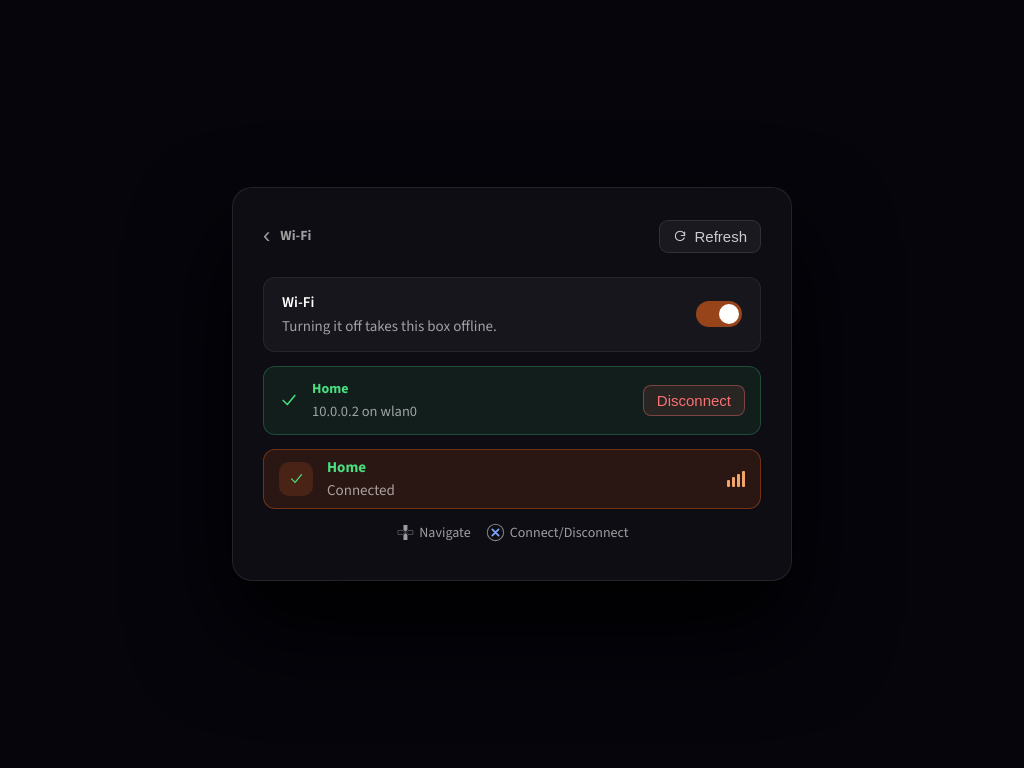
default UI Wi-Fi radio switch › asks twice before going offline, then hides the list
This screenshot has width=1024, height=768.
Expected: the text "Turning it off takes this box offline." is shown, [282, 316, 497, 337]
Step 1. Click the switch → (512, 314), box [263, 277, 761, 352]
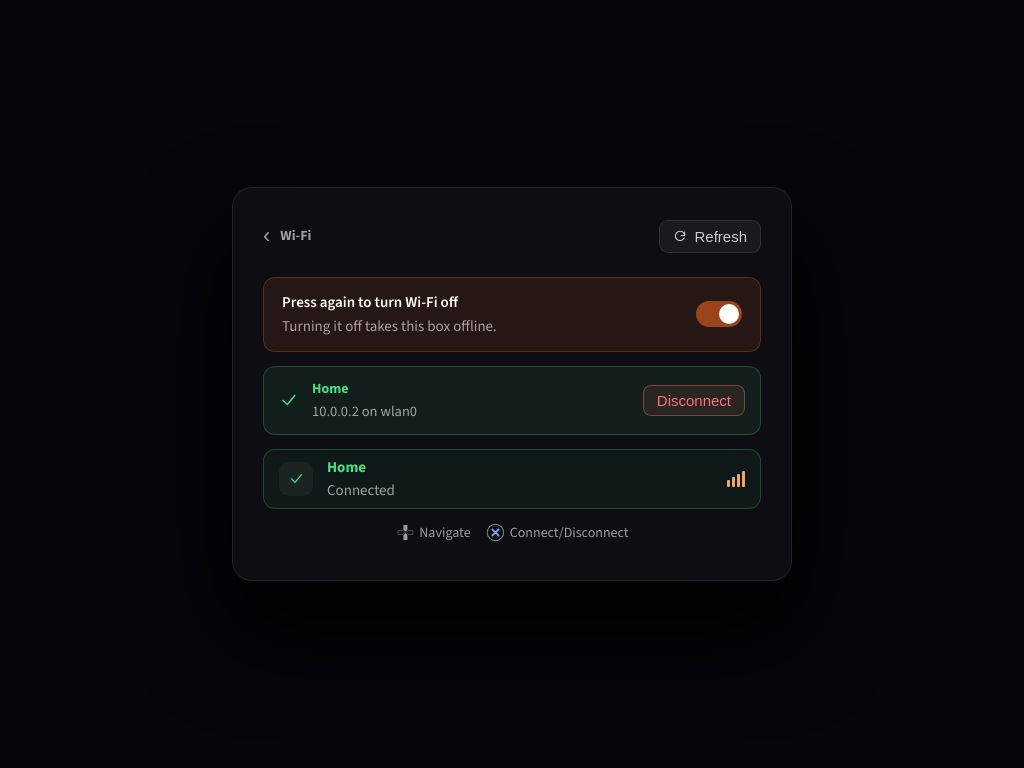
Expected: the text "Press again to turn Wi-Fi off" is shown, [282, 292, 458, 313]
Step 2. Click the switch → (512, 314), box [263, 277, 761, 352]
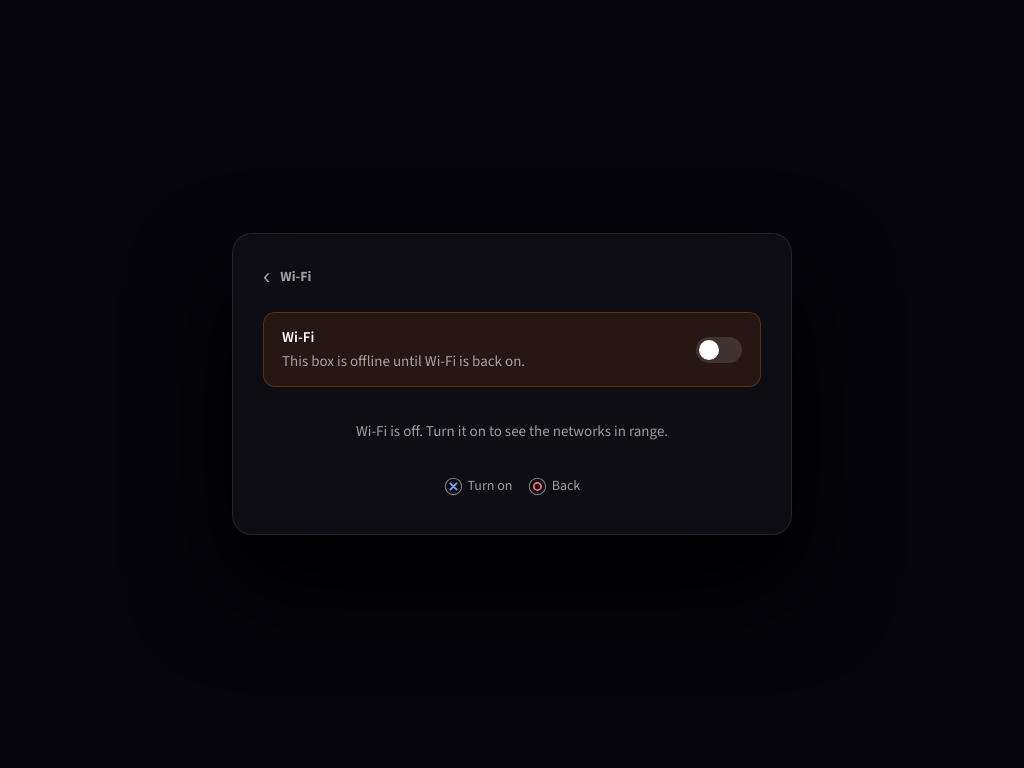
Expected: the text "Wi-Fi is off. Turn it on to see the networks in range." is shown, [356, 421, 668, 442]
